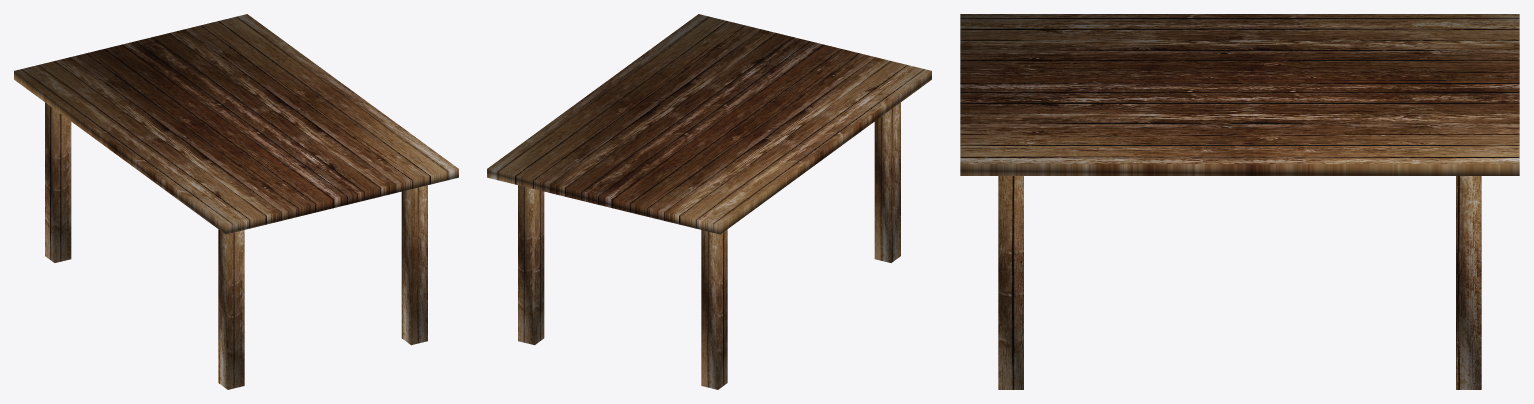
File: table.obj
The picture shows the model from 3 angles, left to right: view 1: azimuth 30°, elevation 25°; view 2: azimuth 150°, elevation 25°; view 3: azimuth 270°, elevation 25°; orthographic projection. The views are drawn at different scales.
Parts seen in each view (by area): view 1: Platte, Bein, Bein_1, Bein_2; view 2: Platte, Bein_2, Bein_3, Bein; view 3: Platte, Bein_1, Bein_3.
Boxes of the visible parts, x1,y1,x2,y2 form: Platte: (14, 14, 458, 234); Bein: (218, 229, 244, 389); Bein_1: (401, 185, 427, 345); Bein_2: (45, 102, 71, 262); Platte: (487, 14, 931, 234); Bein_2: (701, 229, 727, 389); Bein_3: (518, 185, 544, 345); Bein: (874, 102, 900, 262); Platte: (960, 14, 1519, 175); Bein_1: (998, 176, 1023, 389); Bein_3: (1456, 176, 1481, 389).
Bounding box in the file's own units: 4.19 × 3.07 × 6.58.
Materials: 1 (1 with a texture image).
